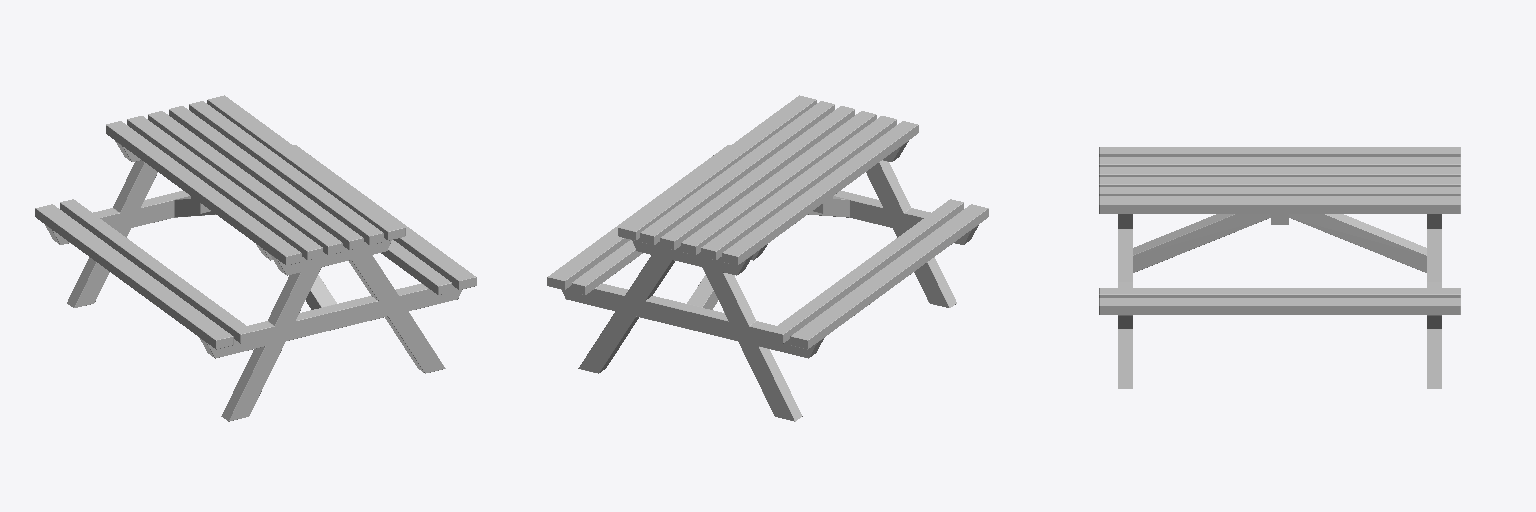
File: 16451_Picnic_table_NEW.obj
The picture shows the model from 3 angles: view 1: azimuth 30°, elevation 25°; view 2: azimuth 150°, elevation 25°; view 3: azimuth 270°, elevation 25°; orthographic projection.
Visible parts, largest first — view 1: Box001; view 2: Box001; view 3: Box001.
Boxes of the visible parts, x1=… form: Box001: x1=35, y1=95, x2=476, y2=421; Box001: x1=547, y1=95, x2=988, y2=421; Box001: x1=1099, y1=147, x2=1460, y2=388.
Bounding box in the file's own units: 1.46 × 0.8573 × 1.75.